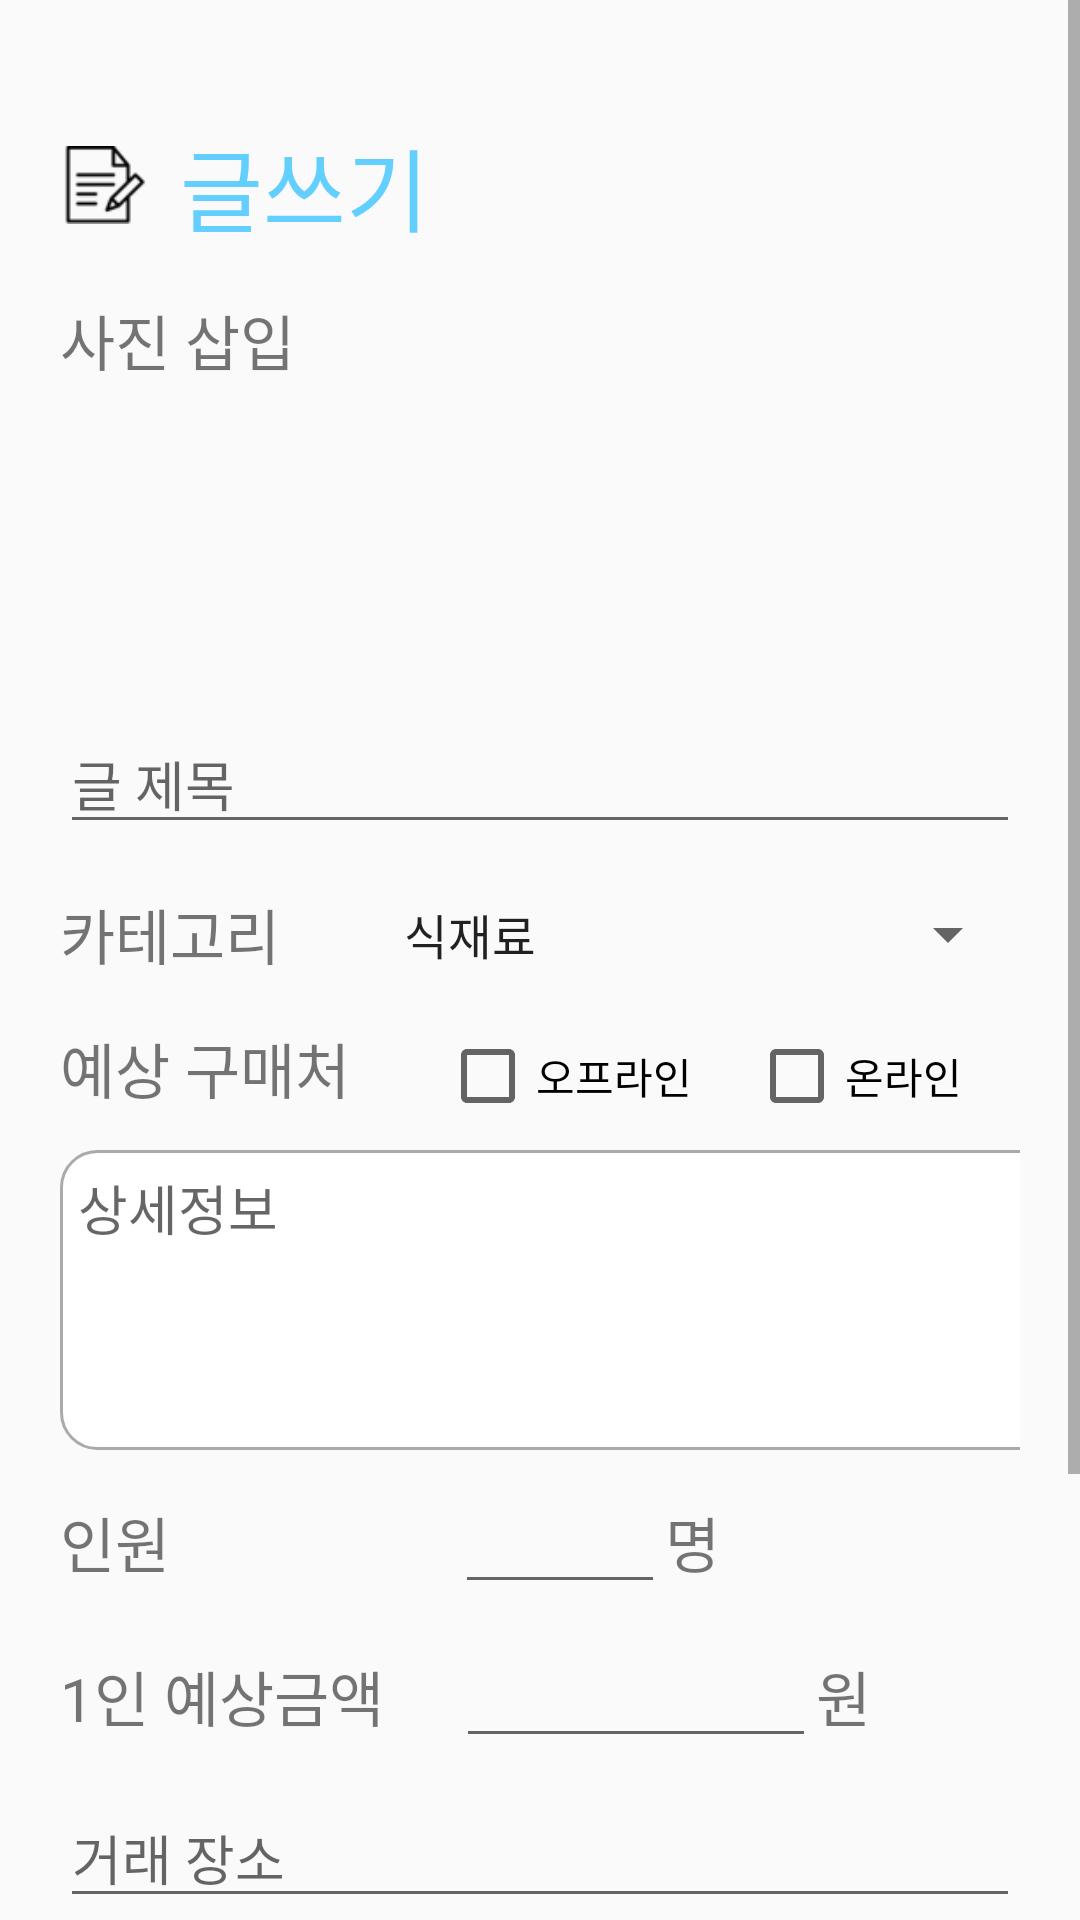

Icons on this 1080x1920 Android screen, each with the point to tap as point (x, y):
writebtn: point (105, 185)
